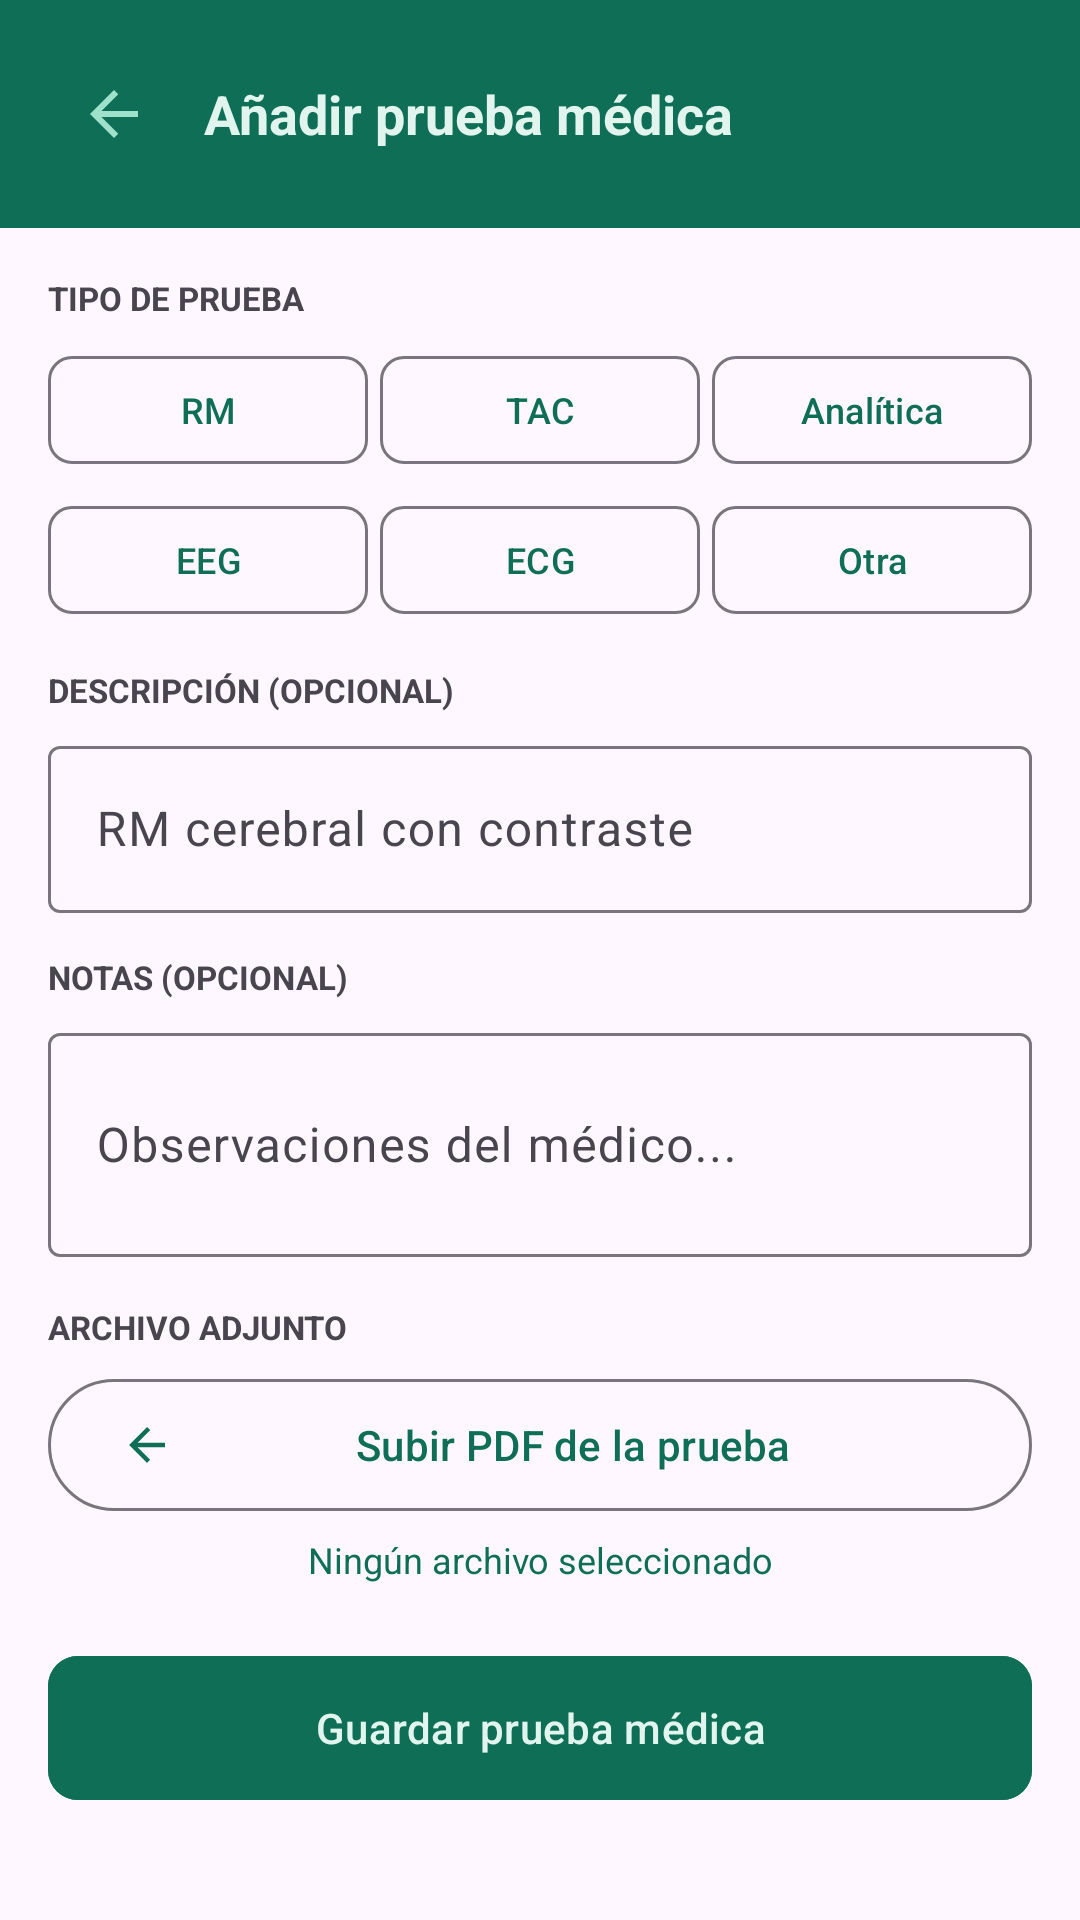

Icon bounding boxes for this 1080px x 1920px phone screenshot, format region(x1, y1, x2, y2):
back: region(90, 90, 138, 138)
